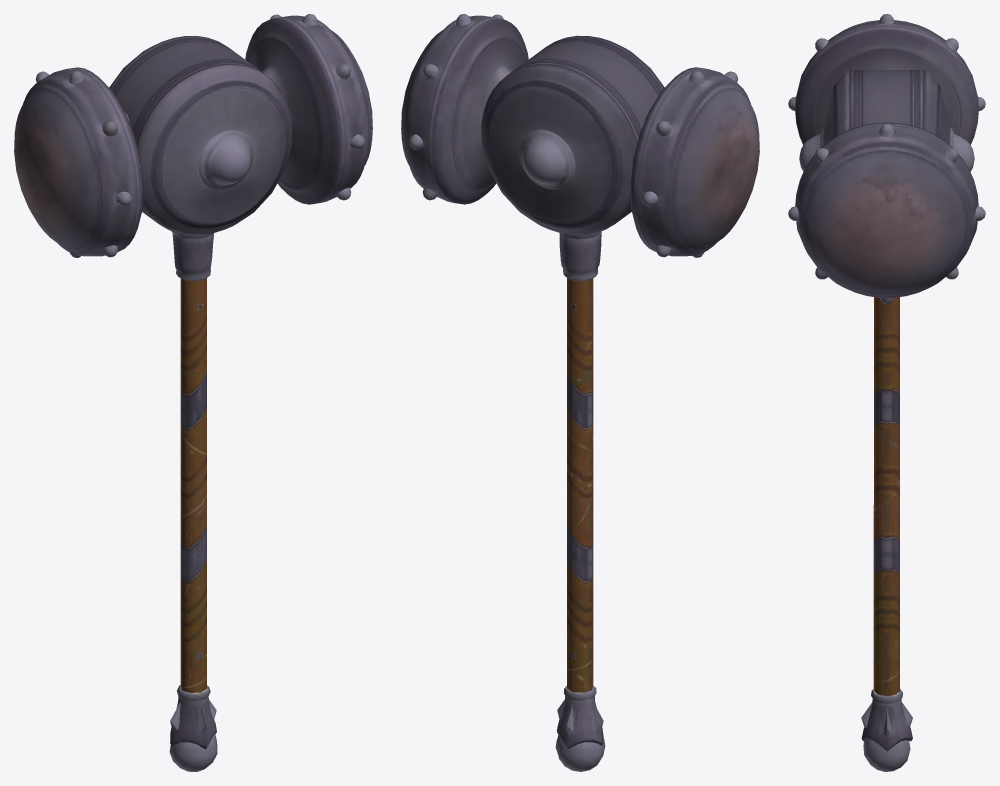
3 renders of one model, left to right at view 1: azimuth 30°, elevation 25°; view 2: azimuth 150°, elevation 25°; view 3: azimuth 270°, elevation 25°, orthographic. The views are drawn at different scales.
Parts seen in each view (by area): view 1: SM_Warhammer_Mithril_2H_01_LOD0; view 2: SM_Warhammer_Mithril_2H_01_LOD0; view 3: SM_Warhammer_Mithril_2H_01_LOD0.
Boxes of the visible parts, left/top/right/bottom form: SM_Warhammer_Mithril_2H_01_LOD0: left=14, top=14, right=372, bottom=771; SM_Warhammer_Mithril_2H_01_LOD0: left=401, top=14, right=759, bottom=771; SM_Warhammer_Mithril_2H_01_LOD0: left=788, top=14, right=985, bottom=771.
Size of the model in its own units: 0.6795 by 1.48 by 0.3775.
Materials: 1 (1 with a texture image).
